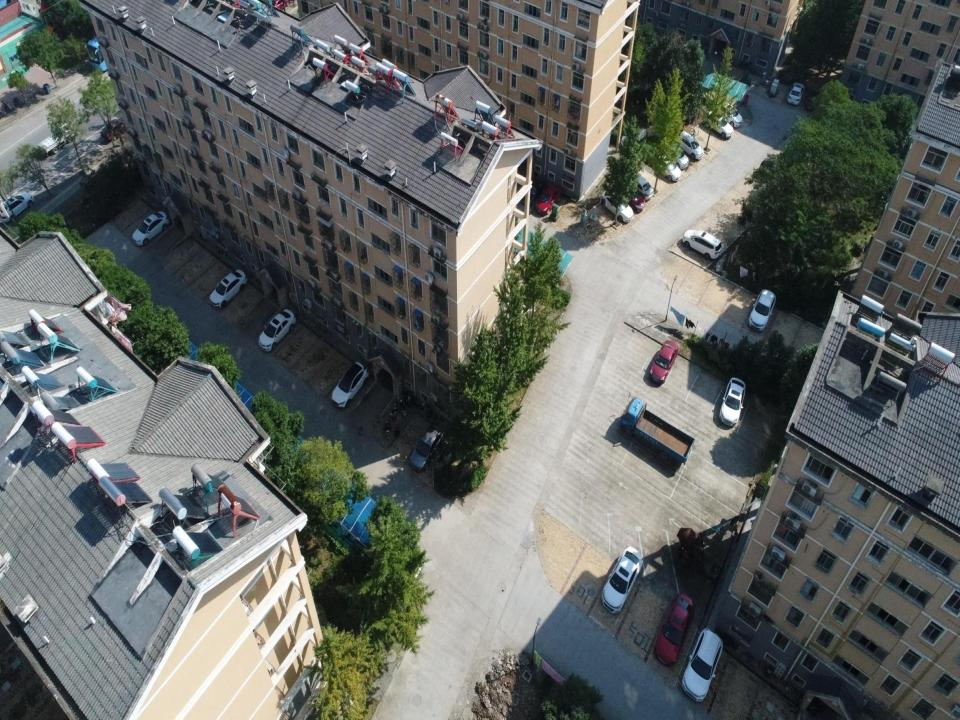bus: (84, 34, 160, 73)
car: (682, 626, 723, 703), (654, 592, 695, 668), (601, 545, 643, 613), (409, 417, 447, 472), (330, 360, 369, 408), (258, 308, 297, 352), (209, 269, 248, 309), (131, 210, 169, 246), (719, 376, 746, 426), (682, 229, 722, 260), (650, 340, 678, 383), (601, 188, 634, 223), (749, 289, 776, 331), (0, 192, 35, 224), (614, 180, 646, 212), (647, 153, 681, 182), (518, 174, 548, 206), (535, 182, 562, 215), (704, 109, 733, 139), (676, 131, 704, 160), (626, 172, 654, 200), (661, 142, 689, 170), (100, 118, 134, 140), (717, 102, 743, 127), (787, 82, 805, 106)
truck: (621, 391, 695, 465), (37, 122, 75, 154)
